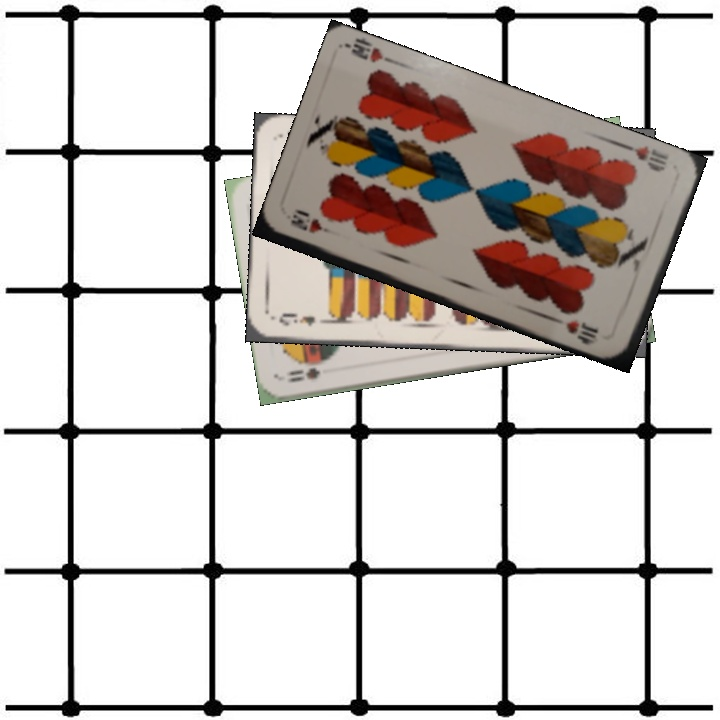E9: (275, 308, 330, 328)
H10: (620, 140, 671, 175), (287, 211, 342, 239)
SO: (282, 363, 323, 385)
